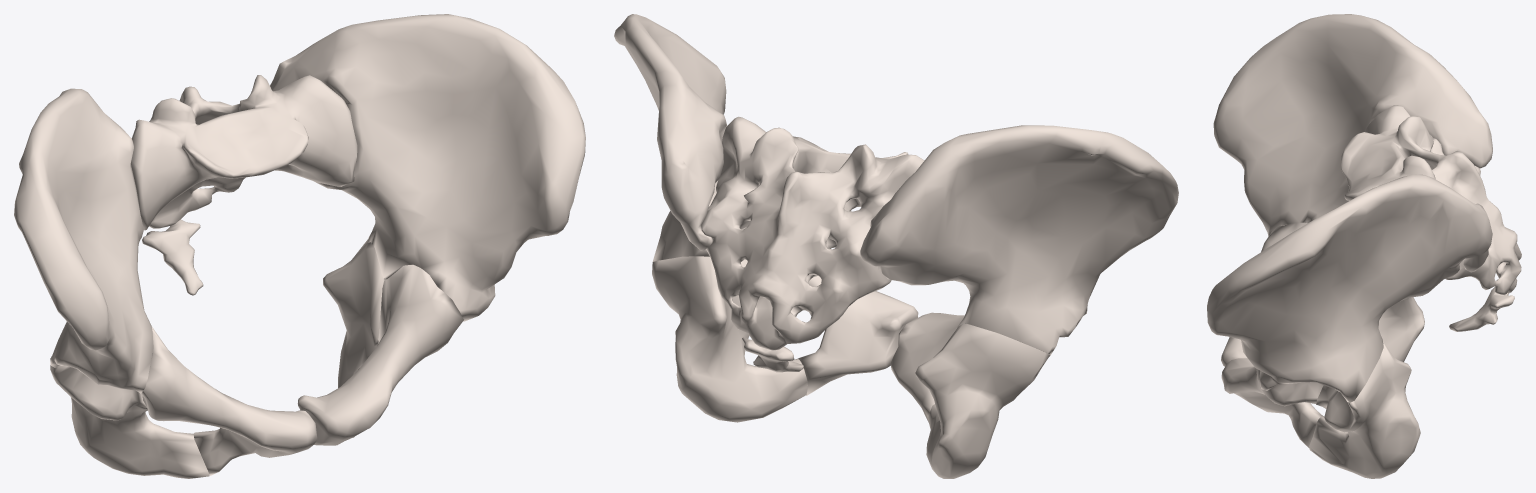
The model's file is vh_f_pelvis-20.glb.
3 views of the same model, side by side, from view 1: azimuth 30°, elevation 25°; view 2: azimuth 150°, elevation 25°; view 3: azimuth 270°, elevation 25° (orthographic). The views are drawn at different scales.
Parts seen in each view (by area): view 1: VH_F_ilium_compact_bone_L, VH_F_ilium_compact_bone_R, VH_F_sacrum, VH_F_pubis_compact_bone_L, VH_F_pubis_compact_bone_R, VH_F_ischium_compact_bone_R, VH_F_ischium_compact_bone_L, VH_F_coccyx; view 2: VH_F_ilium_compact_bone_R, VH_F_sacrum, VH_F_ilium_compact_bone_L, VH_F_ischium_compact_bone_L, VH_F_ischium_compact_bone_R, VH_F_pubis_compact_bone_L, VH_F_pubis_compact_bone_R, VH_F_coccyx; view 3: VH_F_ilium_compact_bone_L, VH_F_ilium_compact_bone_R, VH_F_sacrum, VH_F_ischium_compact_bone_L, VH_F_pubis_compact_bone_L, VH_F_ischium_compact_bone_R, VH_F_coccyx, VH_F_pubis_compact_bone_R.
Part boxes in pixels (<box>): VH_F_ilium_compact_bone_L: <box>270,14,585,321</box>; VH_F_ilium_compact_bone_R: <box>14,88,153,393</box>; VH_F_sacrum: <box>131,75,357,230</box>; VH_F_pubis_compact_bone_L: <box>297,265,463,445</box>; VH_F_pubis_compact_bone_R: <box>140,326,317,475</box>; VH_F_ischium_compact_bone_R: <box>50,356,209,478</box>; VH_F_ischium_compact_bone_L: <box>323,239,384,437</box>; VH_F_coccyx: <box>142,219,203,295</box>; VH_F_ilium_compact_bone_R: <box>860,125,1178,355</box>; VH_F_sacrum: <box>701,116,924,350</box>; VH_F_ilium_compact_bone_L: <box>614,14,746,261</box>; VH_F_ischium_compact_bone_L: <box>652,256,807,422</box>; VH_F_ischium_compact_bone_R: <box>915,323,1050,478</box>; VH_F_pubis_compact_bone_L: <box>741,259,918,395</box>; VH_F_pubis_compact_bone_R: <box>890,312,964,422</box>; VH_F_coccyx: <box>742,337,803,372</box>; VH_F_ilium_compact_bone_L: <box>1207,174,1492,402</box>; VH_F_ilium_compact_bone_R: <box>1213,14,1492,236</box>; VH_F_sacrum: <box>1341,105,1521,295</box>; VH_F_ischium_compact_bone_L: <box>1309,341,1420,478</box>; VH_F_pubis_compact_bone_L: <box>1221,358,1323,447</box>; VH_F_ischium_compact_bone_R: <box>1378,297,1424,361</box>; VH_F_coccyx: <box>1449,287,1514,331</box>; VH_F_pubis_compact_bone_R: <box>1221,222,1307,366</box>.
Size of the model in its own units: 0.3167 by 0.2119 by 0.1823.
